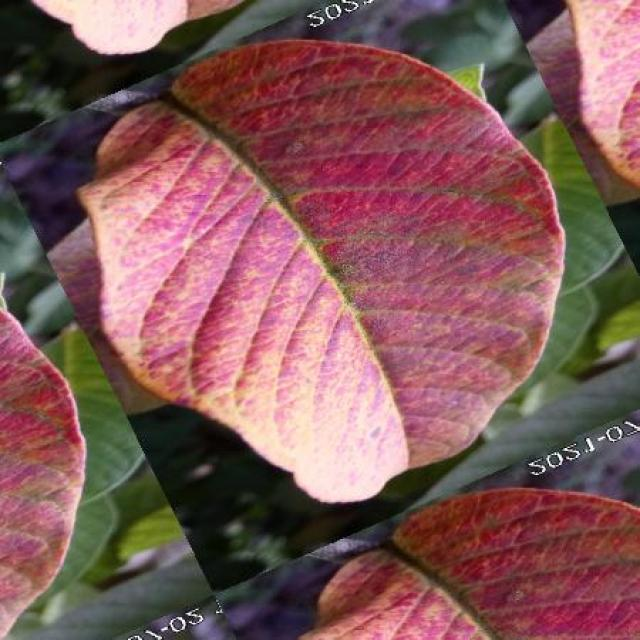Red Rust: (78, 40, 564, 502), (299, 488, 640, 639)
